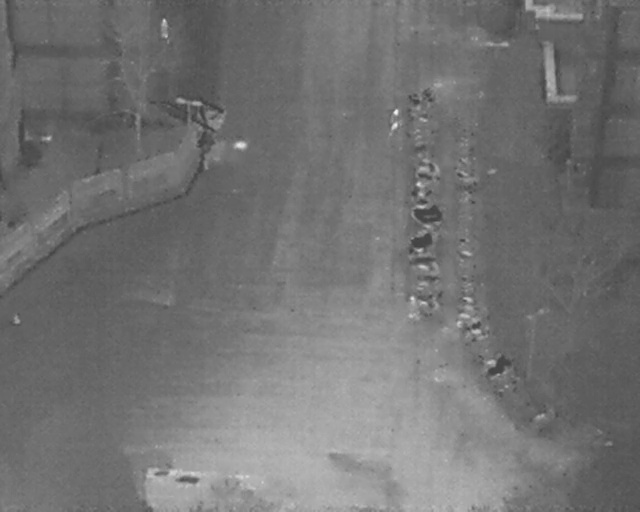Bicycle: (476, 350, 517, 383), (402, 86, 436, 110), (411, 202, 445, 225), (407, 229, 435, 251), (409, 290, 443, 308), (456, 323, 489, 341), (407, 254, 438, 271), (414, 168, 442, 185), (414, 272, 442, 287), (408, 185, 434, 200), (415, 158, 439, 172)
Person: (388, 108, 401, 135), (158, 18, 170, 42)
